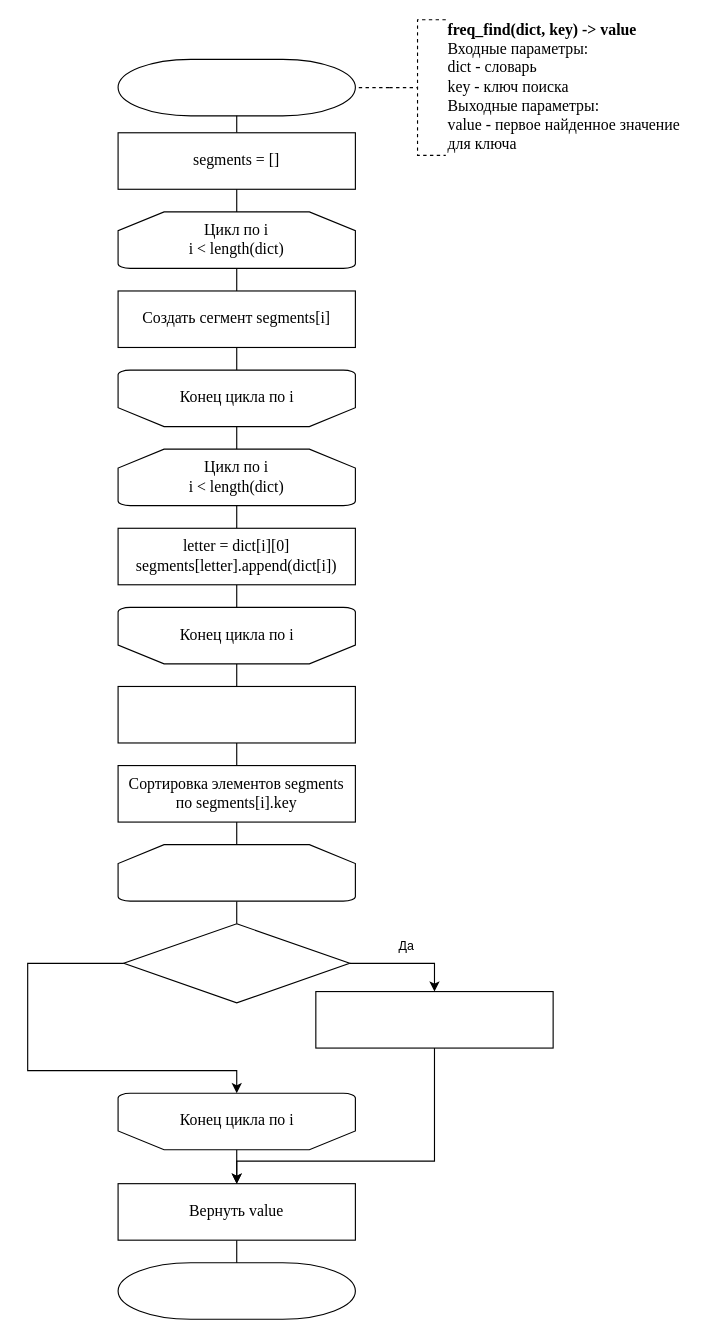
The diagram is 701 pixels wide and 1339 high, and some of its shapes have lost their labels. The centre of each missing label's shape, as x and y in pixels:
"key в segments[i].keys?" belongs at (236,963).
"value = segments[i][key]" belongs at (434,1019).
"Конец" belongs at (236,1290).
"Начало" belongs at (236,87).
"Сортировка segments по length(segments)" belongs at (236,714).
"Цикл по i i < length(segments)" belongs at (236,872).
